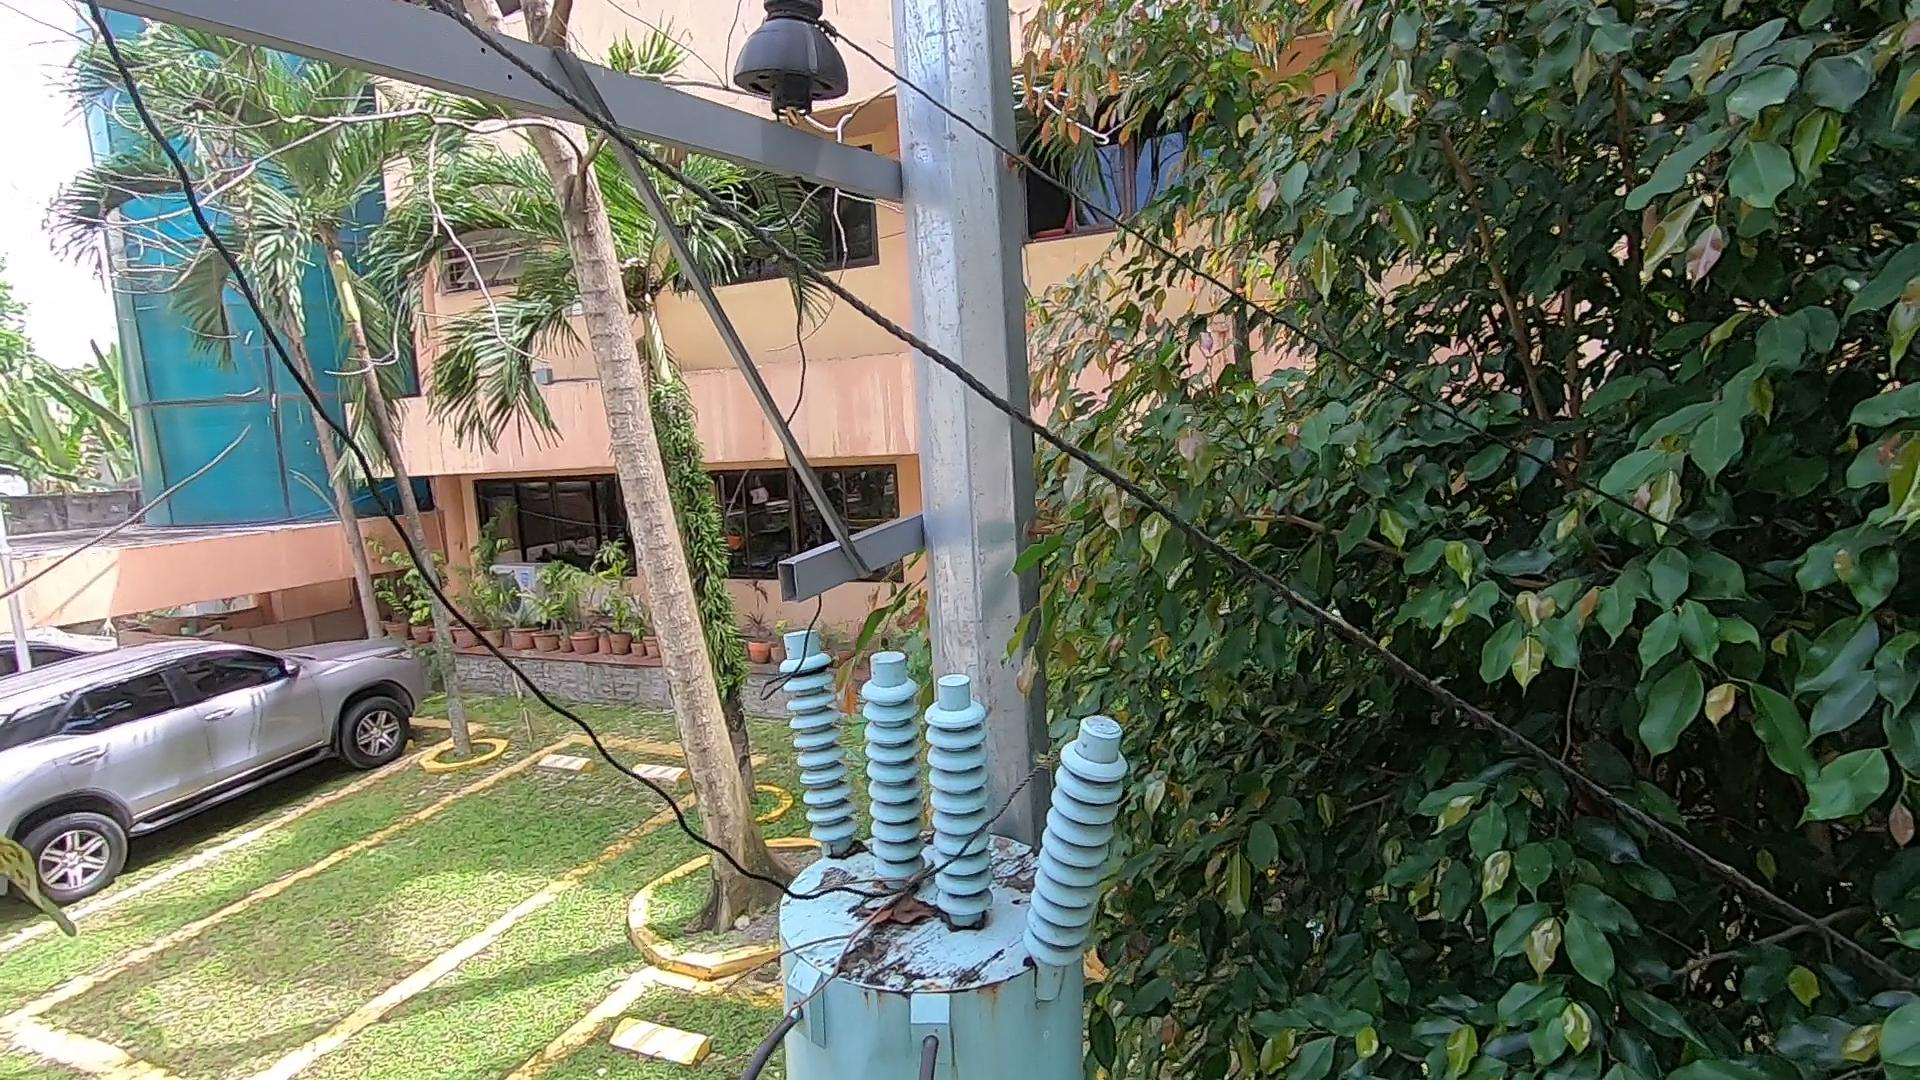leaf: (860, 880, 947, 924), (1000, 853, 1044, 903), (831, 843, 876, 869)
tree branch: (742, 832, 920, 1059)
